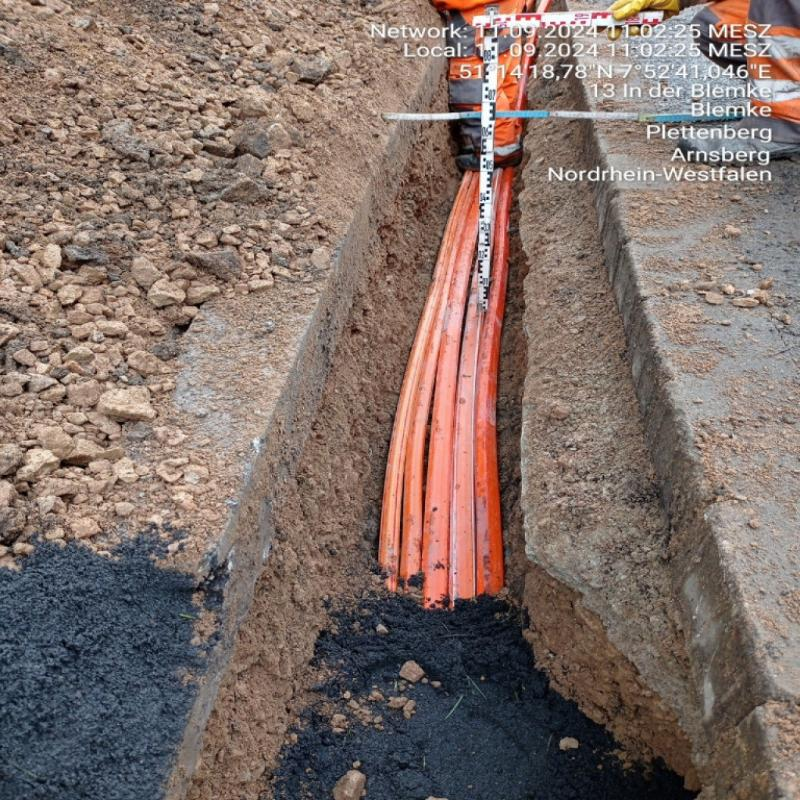Orang-Speednetrohrchen: (378, 166, 511, 596)
